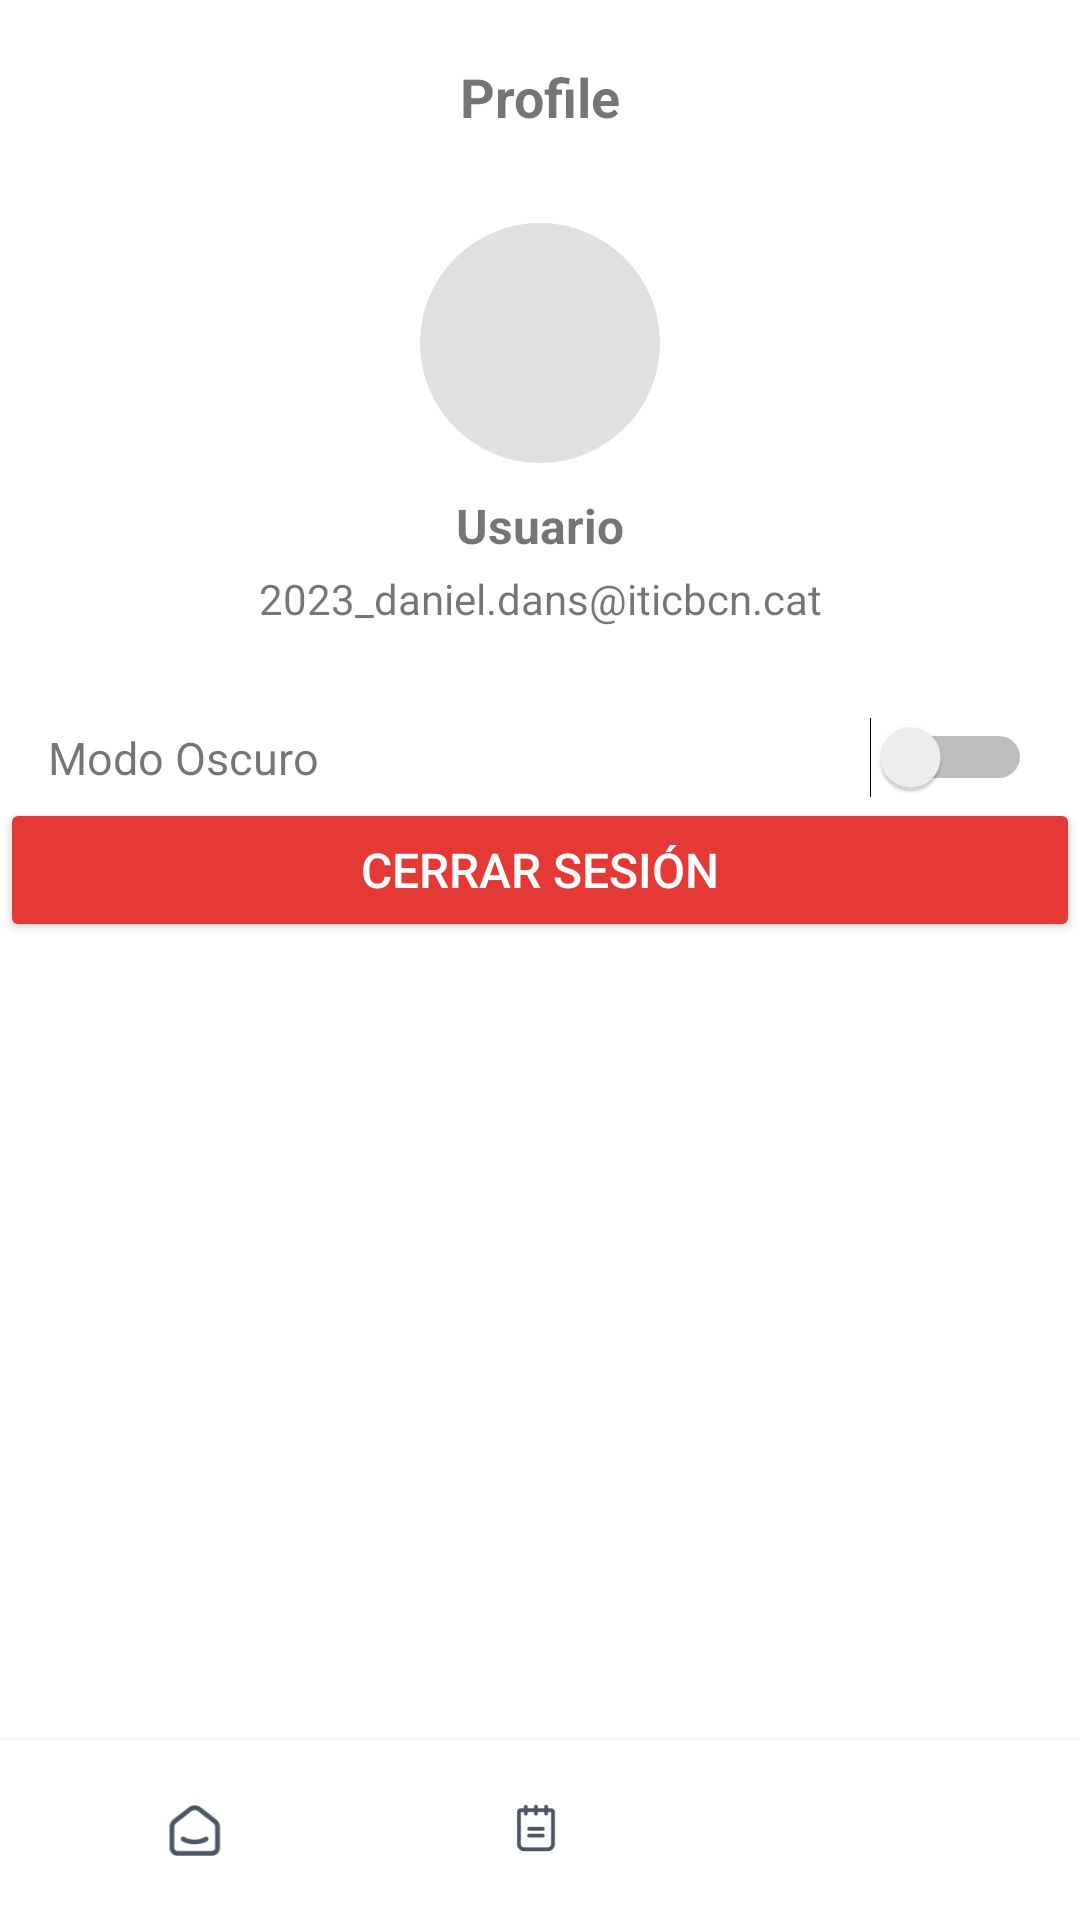

Locate icon controls on the screen. Image size 1080 × 1920, boxes as (x1, y1, x2, y2).
home: (169, 1805, 221, 1856)
